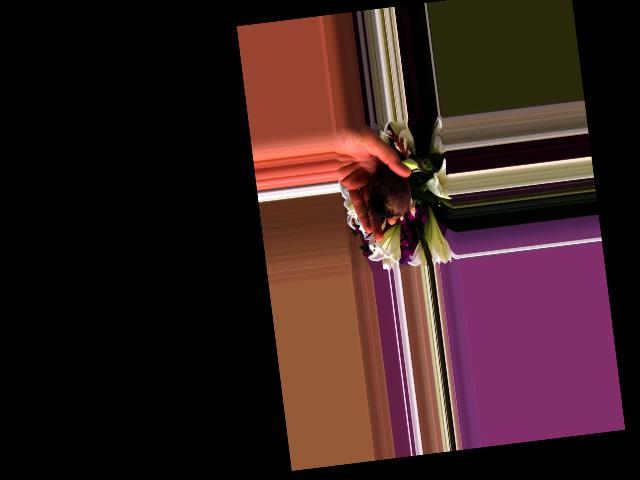beet: (364, 160, 434, 223)
